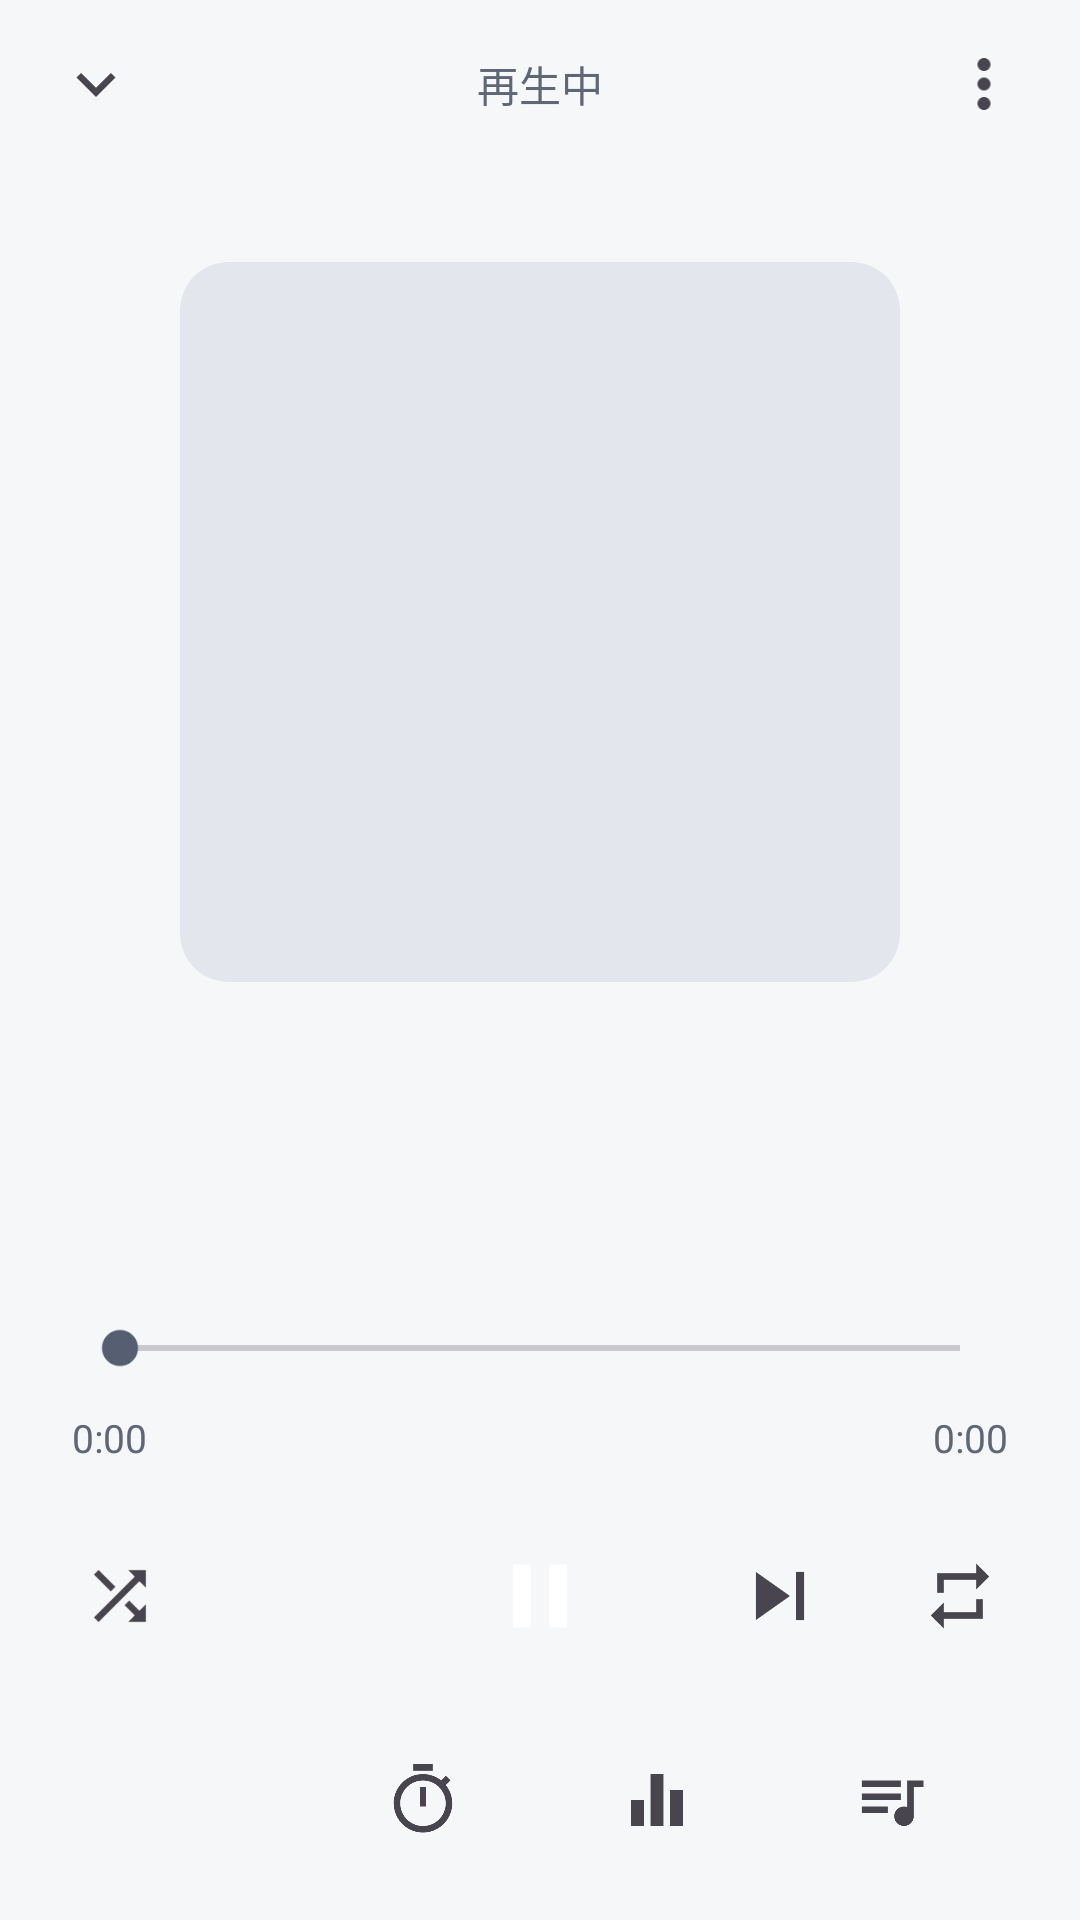

Named icons in this screenshot (1080*1920) and their centers, (x=x, y=y):
その他: (x=984, y=84)
イコライザー: (x=657, y=1800)
シャッフル: (x=120, y=1596)
スリープタイマー: (x=422, y=1798)
リピート: (x=960, y=1596)
再生キュー: (x=893, y=1803)
次へ: (x=780, y=1596)
閉じる: (x=96, y=85)
